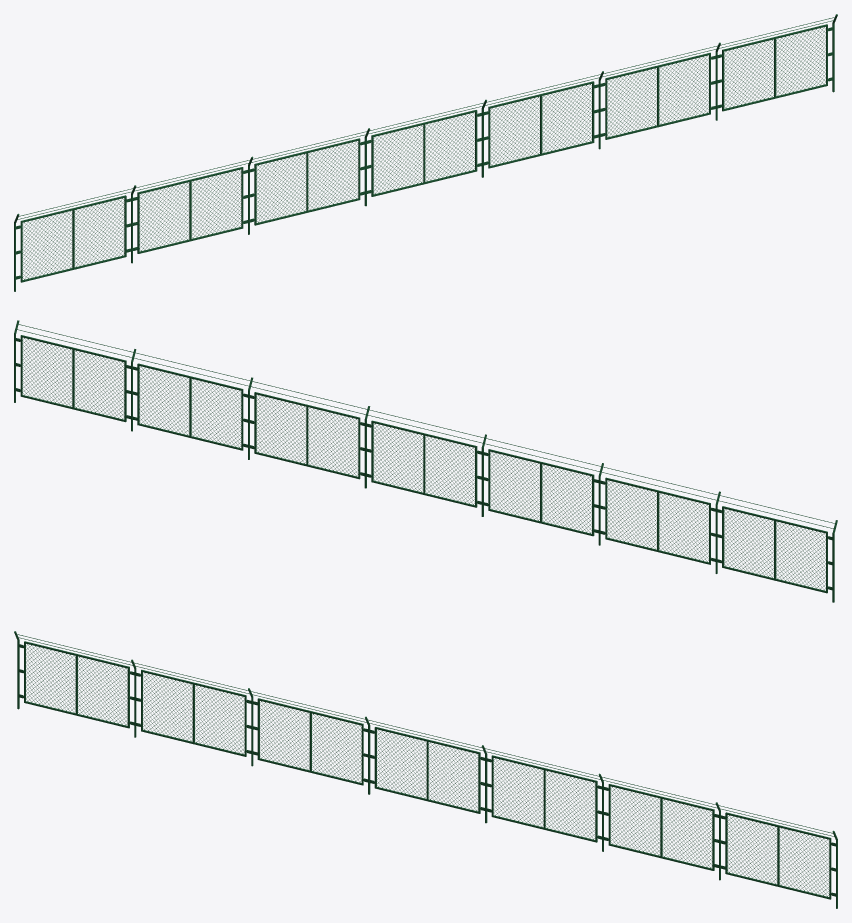
3 renders of one model, top to bottom at view 1: azimuth 30°, elevation 25°; view 2: azimuth 150°, elevation 25°; view 3: azimuth 330°, elevation 25°, orthographic.
Visible parts, largest first — view 1: Obj3d66-8497760-2-347, Obj3d66-8497760-8-634, Obj3d66-8497760-6-113, Obj3d66-8497760-12-247, Obj3d66-8497760-10-34, Obj3d66-8497760-14-40, Obj3d66-8497760-16-155; view 2: Obj3d66-8497760-14-40, Obj3d66-8497760-10-34, Obj3d66-8497760-12-247, Obj3d66-8497760-16-155, Obj3d66-8497760-8-634, Obj3d66-8497760-6-113, Obj3d66-8497760-2-347; view 3: Obj3d66-8497760-16-155, Obj3d66-8497760-12-247, Obj3d66-8497760-14-40, Obj3d66-8497760-8-634, Obj3d66-8497760-10-34, Obj3d66-8497760-6-113, Obj3d66-8497760-2-347.
Part boxes in pixels (box(x1,y1,x2,y2)): Obj3d66-8497760-2-347: box(16, 188, 133, 282); Obj3d66-8497760-8-634: box(250, 131, 367, 225); Obj3d66-8497760-6-113: box(133, 159, 250, 253); Obj3d66-8497760-12-247: box(484, 74, 601, 168); Obj3d66-8497760-10-34: box(367, 102, 484, 196); Obj3d66-8497760-14-40: box(600, 45, 718, 139); Obj3d66-8497760-16-155: box(717, 17, 835, 111); Obj3d66-8497760-14-40: box(132, 352, 249, 450); Obj3d66-8497760-10-34: box(366, 409, 483, 507); Obj3d66-8497760-12-247: box(249, 381, 367, 479); Obj3d66-8497760-16-155: box(15, 324, 133, 422); Obj3d66-8497760-8-634: box(483, 438, 600, 536); Obj3d66-8497760-6-113: box(600, 466, 717, 564); Obj3d66-8497760-2-347: box(717, 495, 834, 593); Obj3d66-8497760-16-155: box(718, 805, 835, 899); Obj3d66-8497760-12-247: box(484, 748, 601, 842); Obj3d66-8497760-14-40: box(601, 776, 718, 870); Obj3d66-8497760-8-634: box(250, 691, 367, 785); Obj3d66-8497760-10-34: box(367, 719, 484, 813); Obj3d66-8497760-6-113: box(133, 662, 251, 756); Obj3d66-8497760-2-347: box(16, 634, 134, 728).
Bounding box in the file's own units: 28050 × 2613 × 255.
